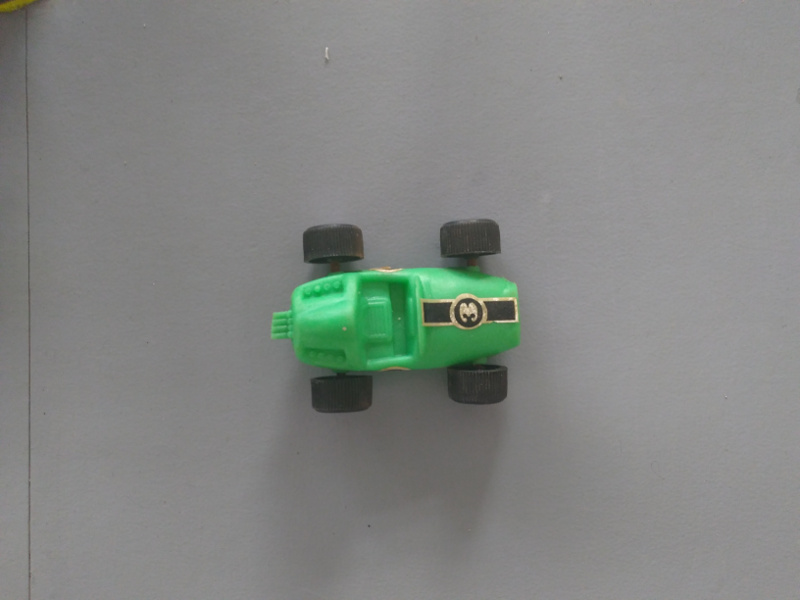verde: (275, 226, 518, 404)
